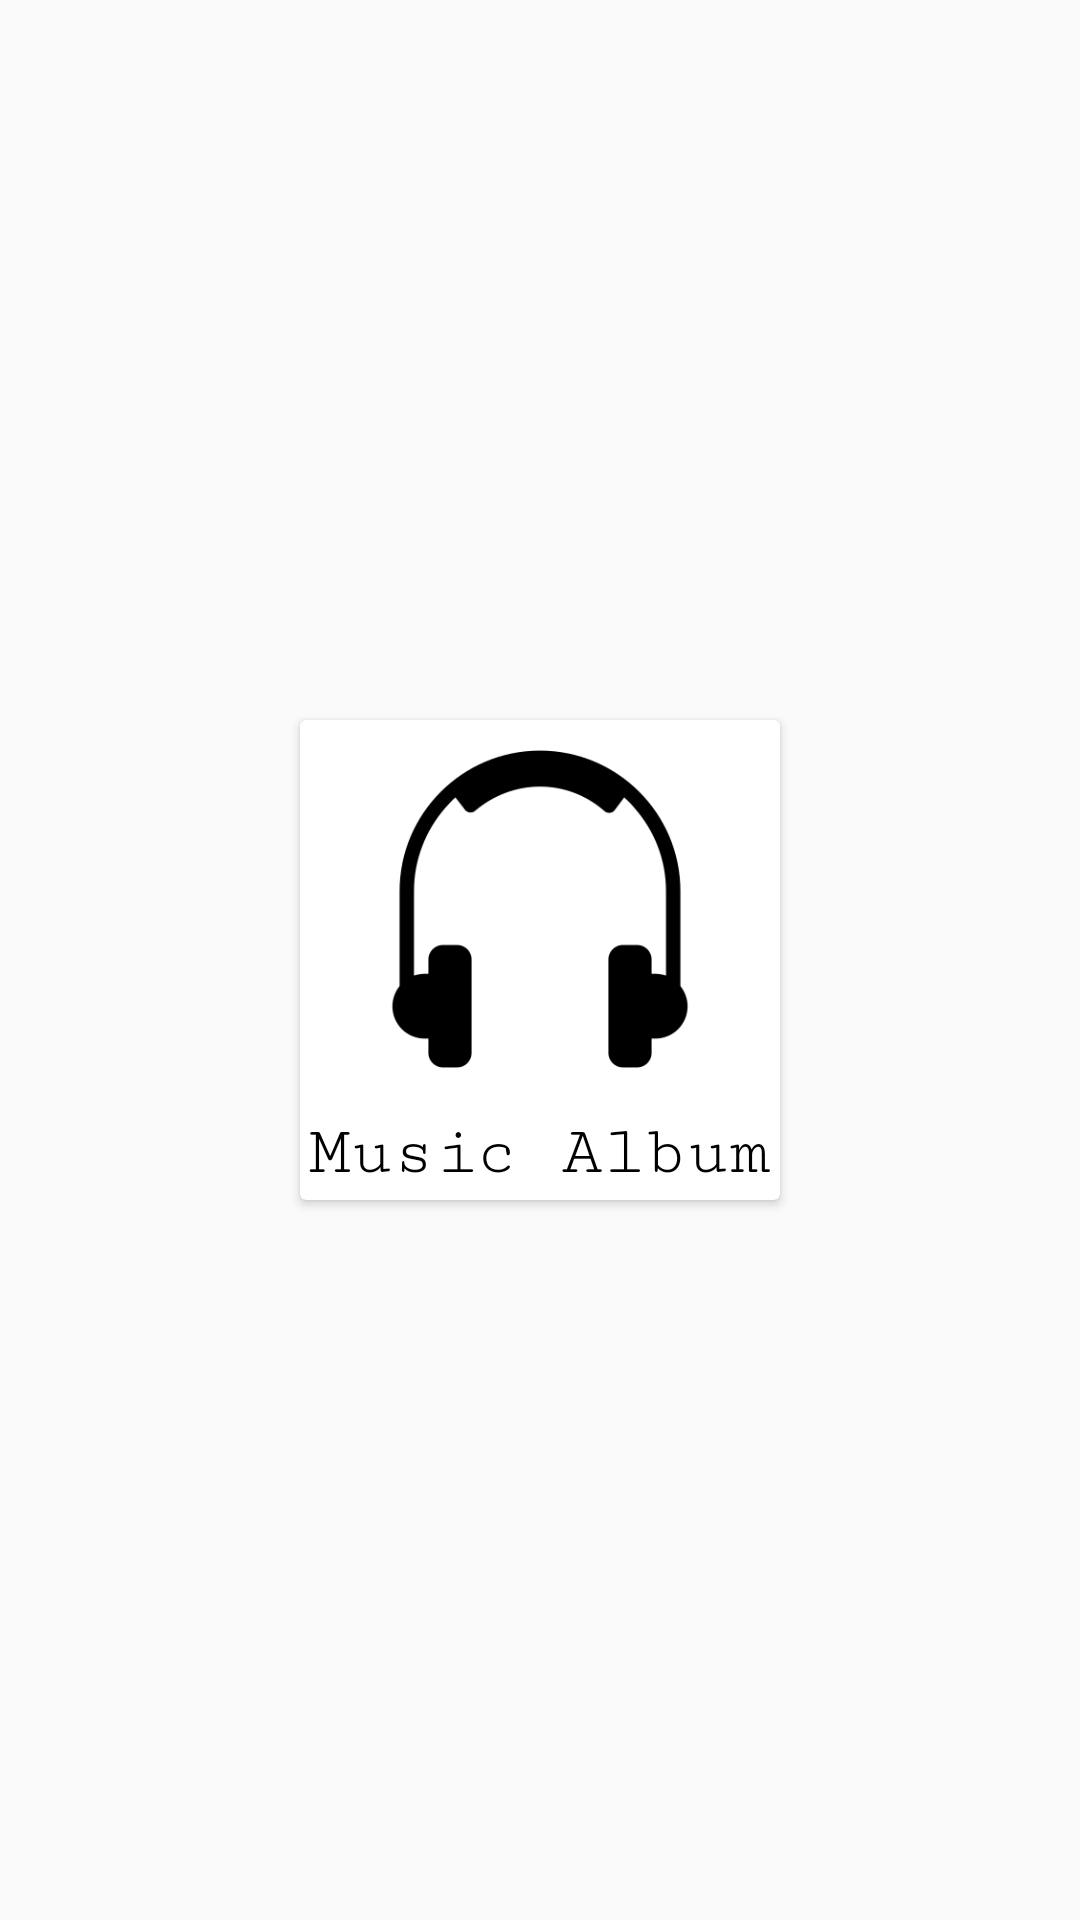

Named icons in this screenshot (1080x1920) and their centers, [x,y]:
headset: [540,909]
